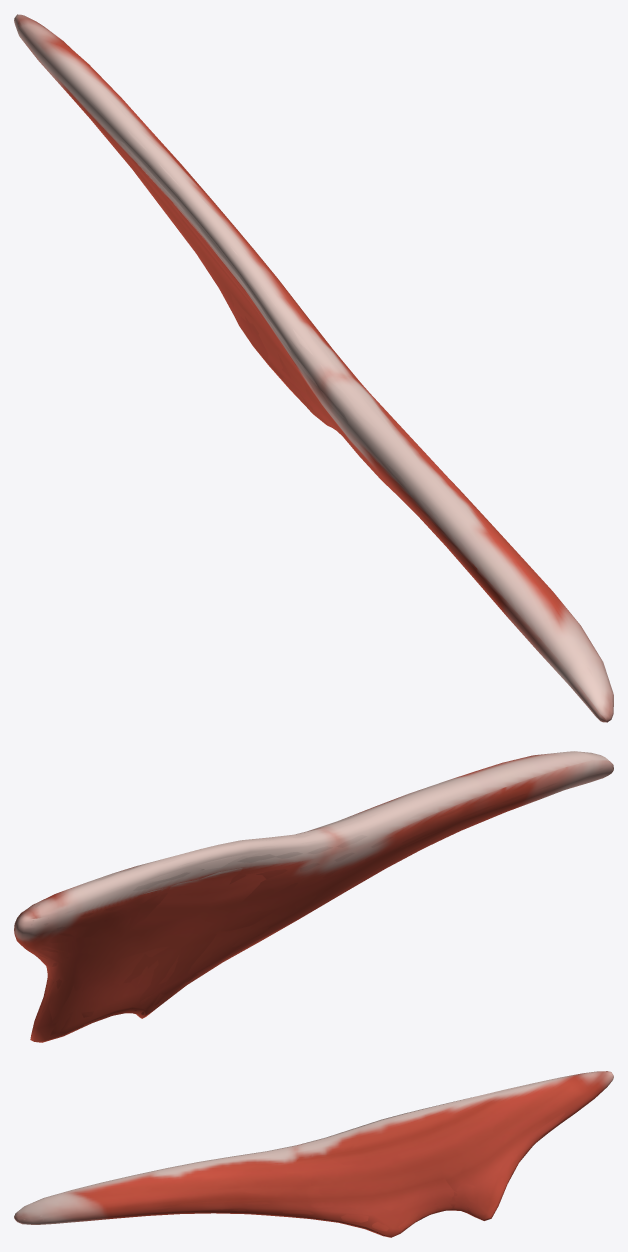
The model's file is L rhomboideus.fbx.
The picture shows the model from 3 angles, top to bottom: view 1: azimuth 30°, elevation 25°; view 2: azimuth 150°, elevation 25°; view 3: azimuth 270°, elevation 25°; orthographic projection. The views are drawn at different scales.
Visible parts, largest first — view 1: L rhomboideus, L rhomboideus high, L rhomboideus low; view 2: L rhomboideus, L rhomboideus low, L rhomboideus high; view 3: L rhomboideus, L rhomboideus high, L rhomboideus low.
Part boxes in pixels (x1=…): L rhomboideus: x1=14, y1=14, x2=613, y2=722; L rhomboideus high: x1=16, y1=17, x2=612, y2=721; L rhomboideus low: x1=74, y1=101, x2=442, y2=536; L rhomboideus: x1=14, y1=751, x2=613, y2=1042; L rhomboideus low: x1=32, y1=783, x2=585, y2=1020; L rhomboideus high: x1=15, y1=753, x2=609, y2=1035; L rhomboideus: x1=14, y1=1071, x2=613, y2=1237; L rhomboideus high: x1=22, y1=1072, x2=610, y2=1231; L rhomboideus low: x1=119, y1=1112, x2=564, y2=1221.
Bounding box in the file's own units: 4.08 × 9.48 × 34.75.
1 material, 1 textured.
